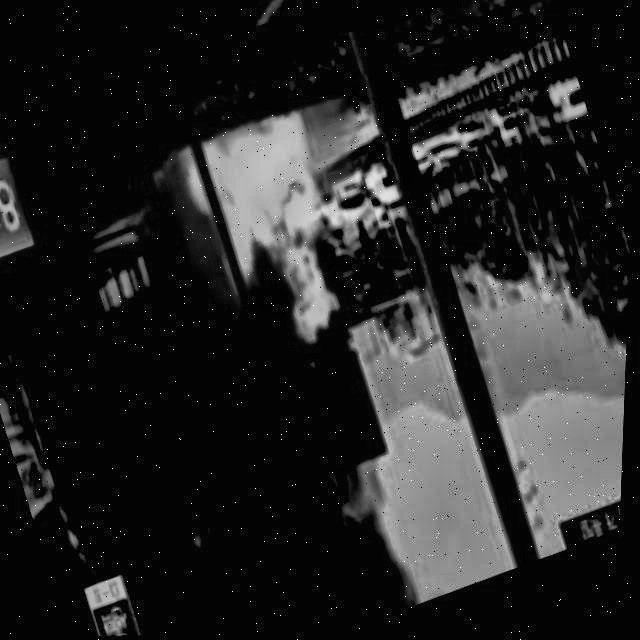Fire: (222, 104, 361, 333), (168, 119, 269, 276)
Smoke: (132, 259, 425, 636)
